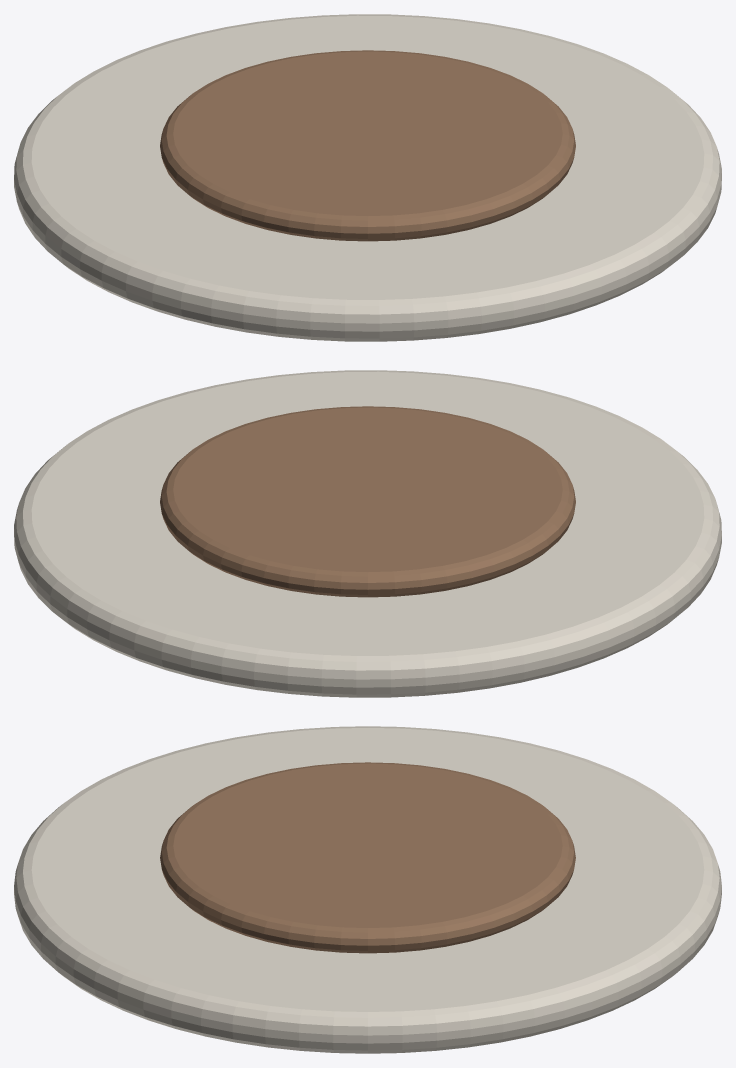
File: cafe-saucer-01.glb
The picture shows the model from 3 angles, top to bottom: view 1: azimuth 30°, elevation 25°; view 2: azimuth 150°, elevation 25°; view 3: azimuth 270°, elevation 25°; orthographic projection.
Parts seen in each view (by area): view 1: cafe-saucer-01; view 2: cafe-saucer-01; view 3: cafe-saucer-01.
Boxes of the visible parts, bbox=[...] form: cafe-saucer-01: bbox=[14, 14, 721, 341]; cafe-saucer-01: bbox=[14, 370, 721, 697]; cafe-saucer-01: bbox=[14, 726, 721, 1053].
Size of the model in its own units: 0.16 by 0.021 by 0.16.
